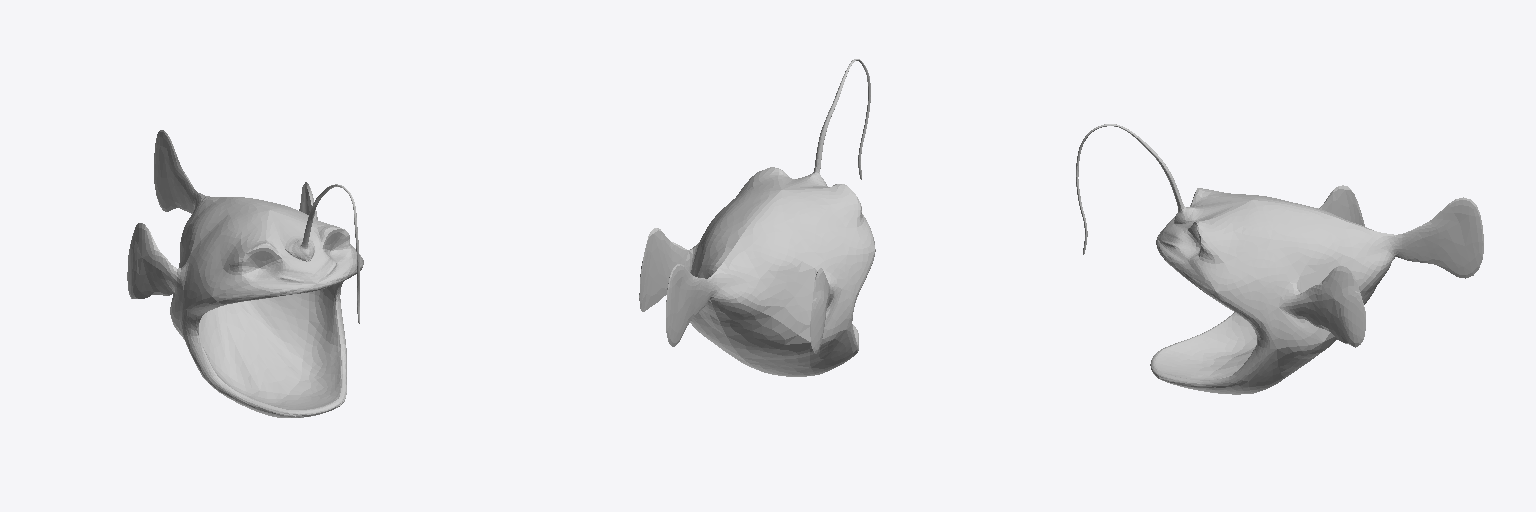
File: anglerfish_body.obj
The picture shows the model from 3 angles: view 1: azimuth 30°, elevation 25°; view 2: azimuth 150°, elevation 25°; view 3: azimuth 270°, elevation 25°; orthographic projection.
Visible parts, largest first — view 1: Sphere.001; view 2: Sphere.001; view 3: Sphere.001.
Part boxes in pixels (bbox=[...]): Sphere.001: bbox=[127, 130, 363, 417]; Sphere.001: bbox=[639, 59, 875, 376]; Sphere.001: bbox=[1076, 124, 1483, 394].
Bounding box in the file's own units: 1.88 × 2.66 × 3.72.